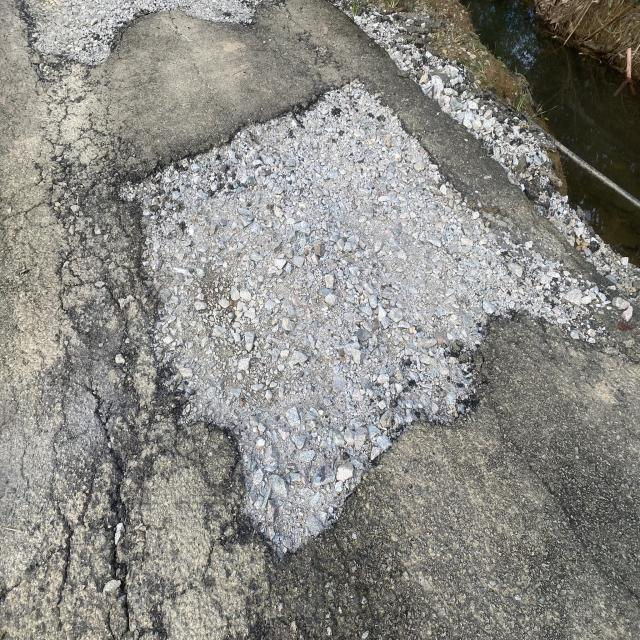pothole: (72, 58, 435, 640)
